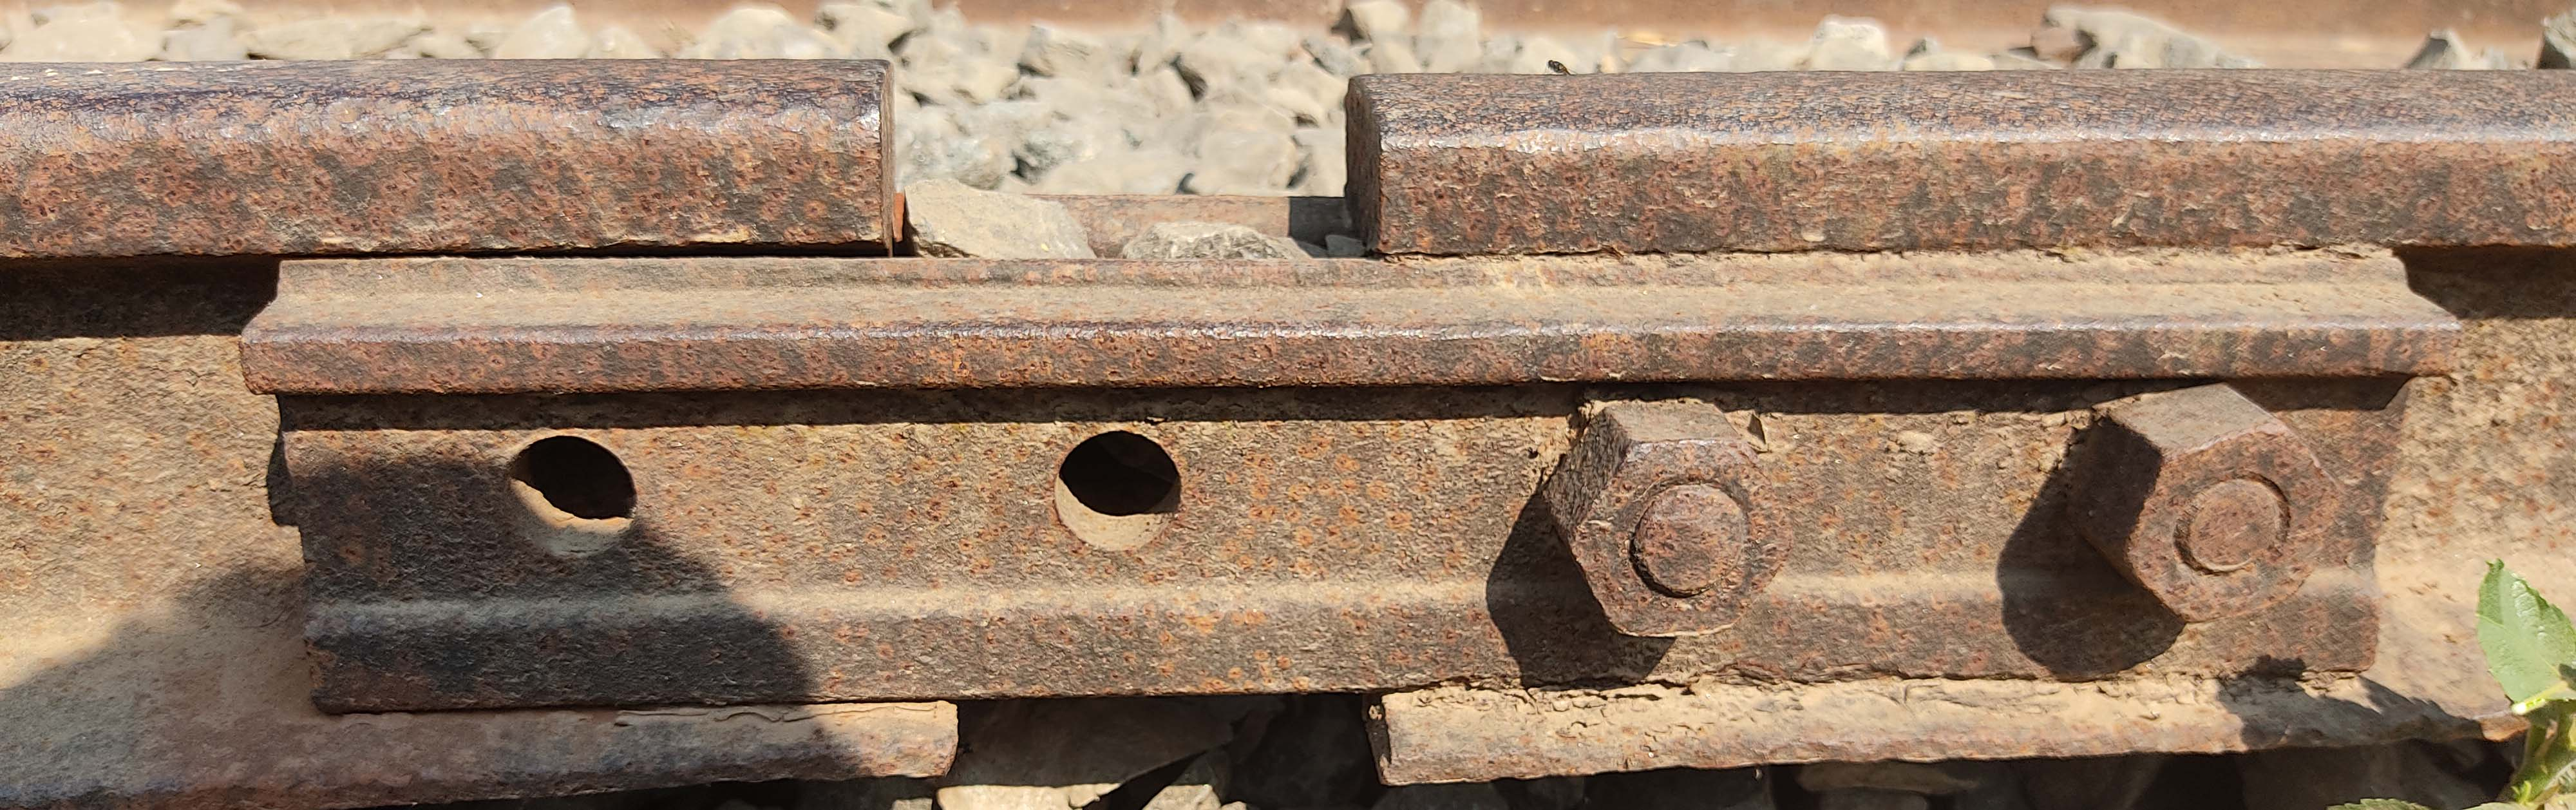error2: (856, 23, 1418, 324)
